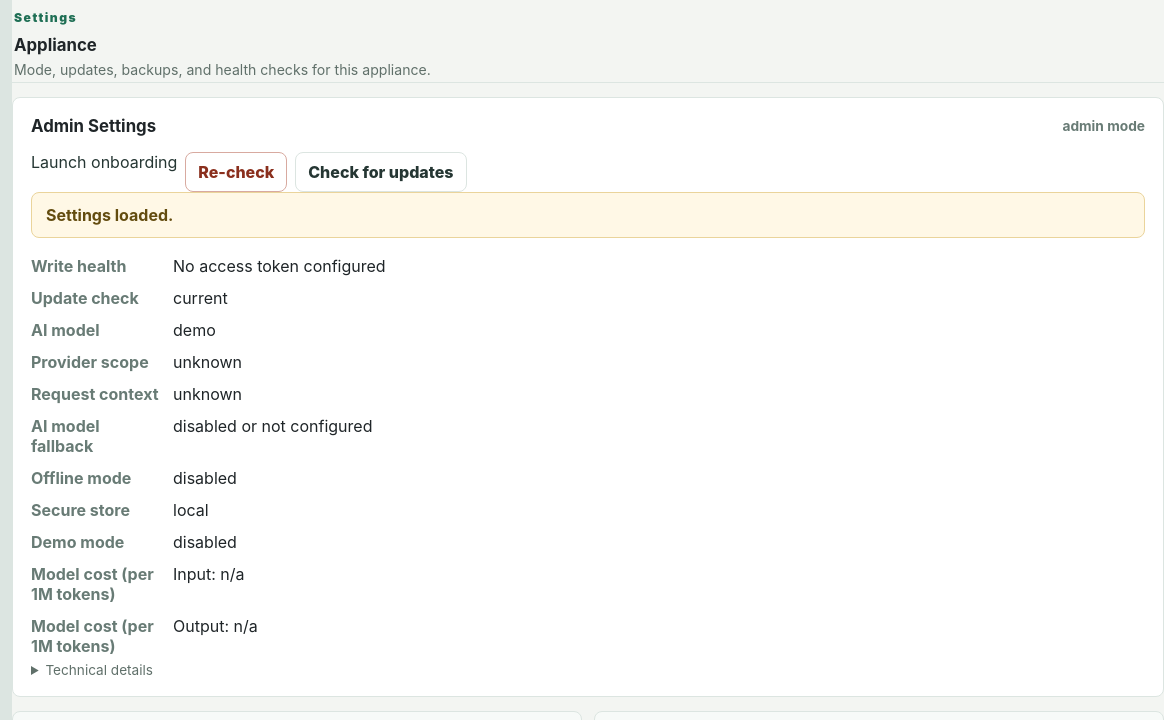
Settings loading › checks for updates with the backend POST contract and renders the returned status
The image size is (1164, 720).
Expected: the text "Settings loaded." is shown, [31,192,1145,238]
Click the button "Check for updates" at (381, 172), box [295,152,466,192]
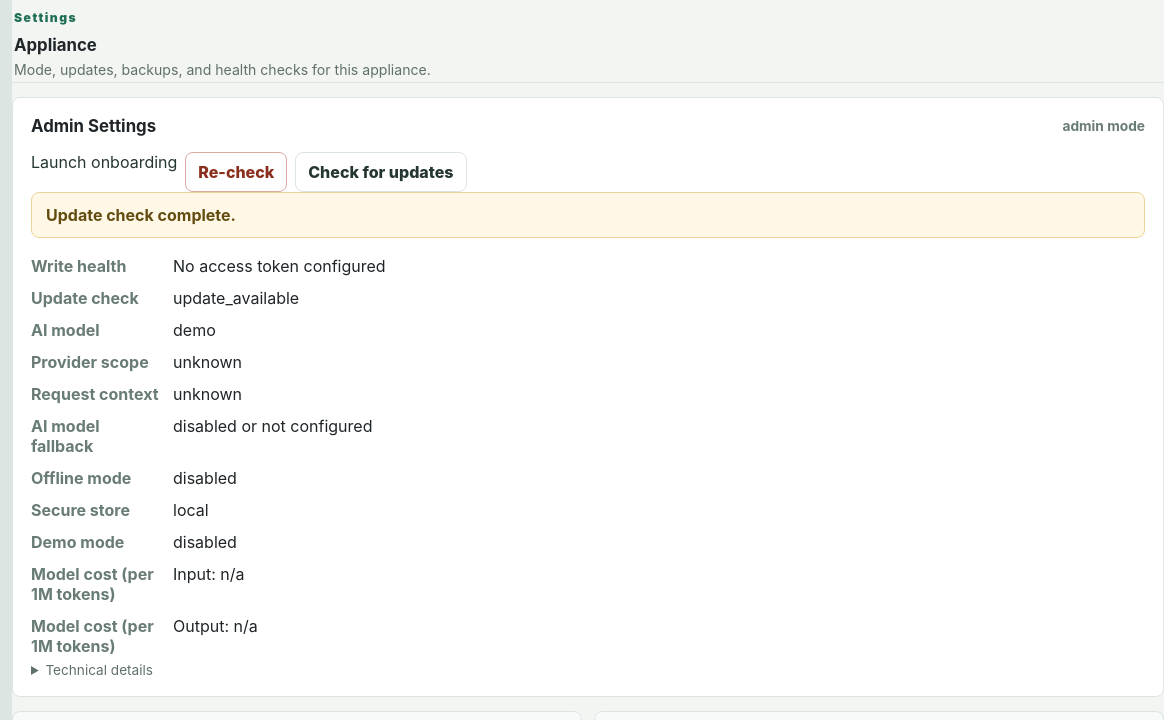
Now the text "Update check complete." is shown, box [31,192,1145,238]
